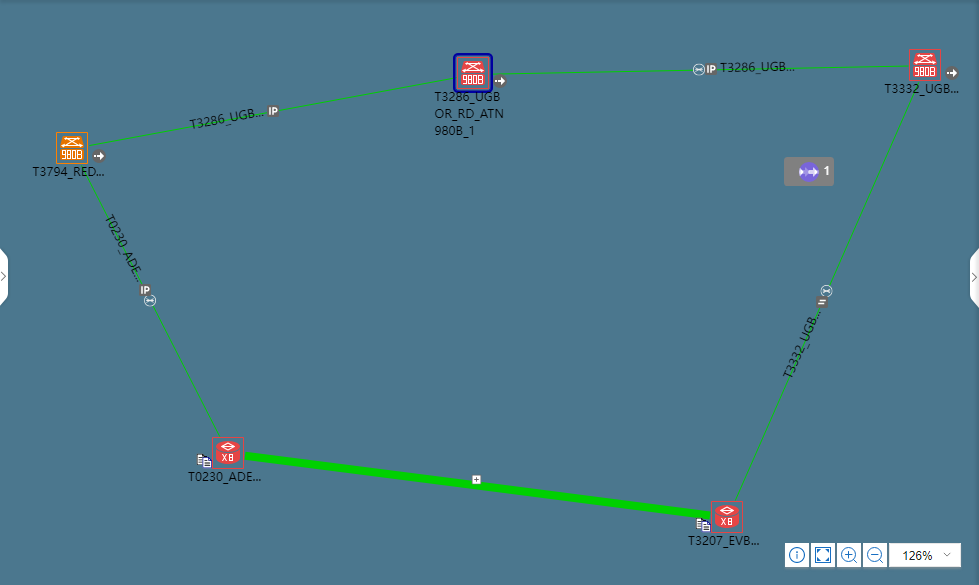ATN_Orange: (58, 136, 87, 166)
ATN_Red: (909, 51, 938, 78), (462, 63, 485, 92)
Link_Green: (737, 81, 918, 490), (83, 167, 219, 435), (242, 449, 708, 519), (89, 75, 454, 147), (535, 63, 901, 80)
Router_Red: (211, 436, 246, 471), (713, 504, 742, 531)
